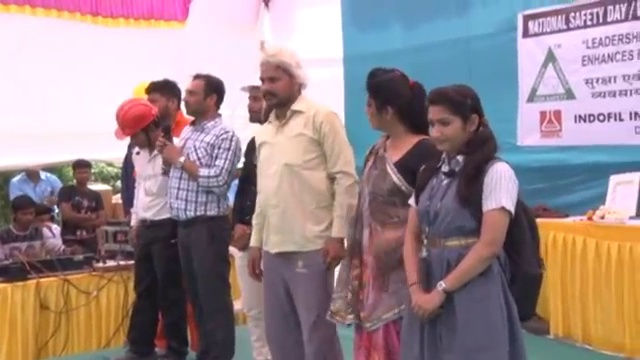helmet: (113, 99, 162, 139), (237, 64, 267, 96)
helmet_off: (420, 84, 490, 162), (365, 71, 428, 139), (249, 49, 313, 109), (179, 74, 226, 123), (147, 82, 183, 124), (10, 196, 37, 227), (72, 159, 92, 190), (34, 204, 54, 226), (25, 167, 44, 185)
helmet_on: (112, 97, 162, 155), (237, 64, 265, 124)
person: (398, 80, 541, 360), (246, 46, 361, 360), (349, 62, 432, 359), (161, 72, 240, 360), (110, 100, 191, 354), (228, 63, 270, 358), (0, 195, 78, 260), (54, 161, 110, 247), (8, 166, 65, 207)
